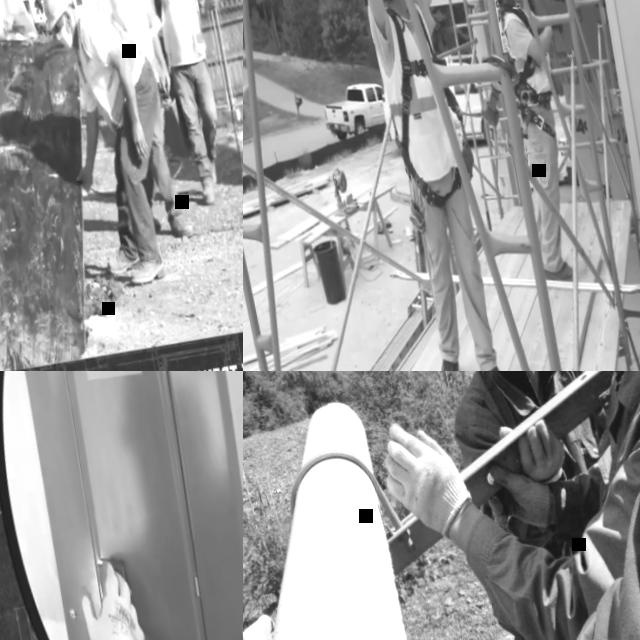Hardhat: (39, 0, 76, 27)
Mask: (52, 13, 76, 51)
NO-Safety Vest: (451, 371, 638, 640), (566, 371, 640, 577)
Person: (319, 371, 640, 640), (340, 0, 522, 371), (416, 371, 640, 640), (38, 0, 192, 292), (494, 371, 640, 640), (476, 0, 606, 285), (80, 0, 196, 232), (133, 0, 243, 206), (71, 549, 176, 640), (0, 0, 35, 40)
Safety Vest: (367, 0, 466, 185), (68, 0, 155, 134), (92, 0, 170, 86), (495, 0, 555, 97), (146, 0, 220, 62), (0, 0, 19, 44)
vehicle: (375, 47, 524, 153), (319, 79, 390, 141)
